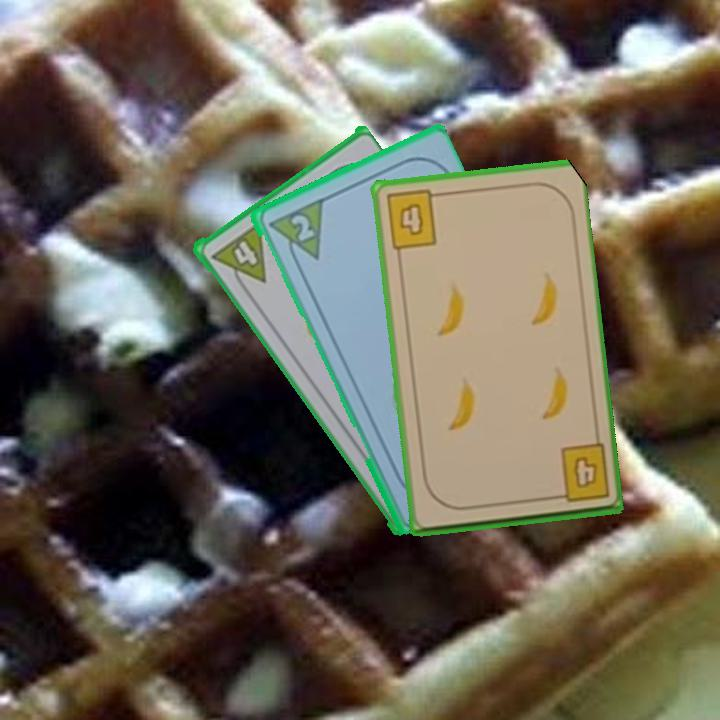2p: (286, 210, 317, 244)
4b: (547, 440, 612, 506), (382, 187, 445, 252)
4p: (206, 219, 269, 296)
